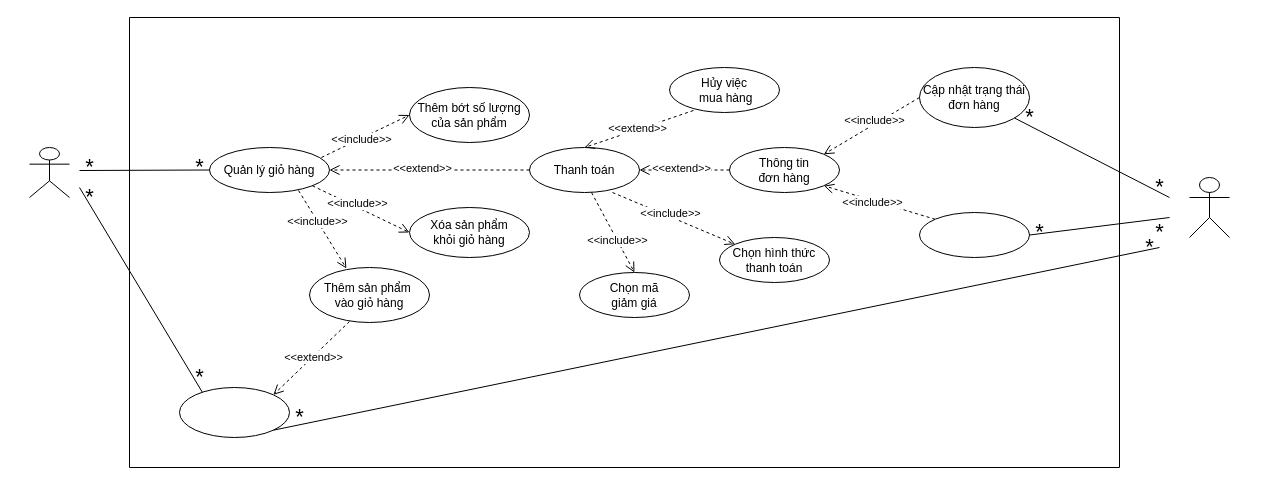
Image size: 1264x485. Some labels were removed from this diagram. Each missing label, with the centre of its shape:
Người dùng: [49,172]
Người quản lý: [1209,207]
Tiếp nhận đơn hàng: [974,235]
Xem sản phẩm: [234,412]
